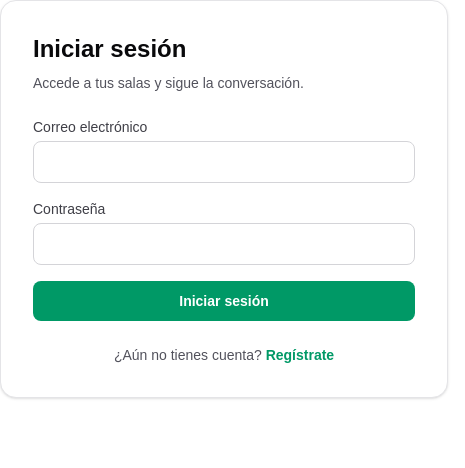
Scenario: AuthForm › modo login: muestra el error del servidor
In the field labelled "Correo electrónico": (224, 162) [33,141,415,183], type "ana@example.com"
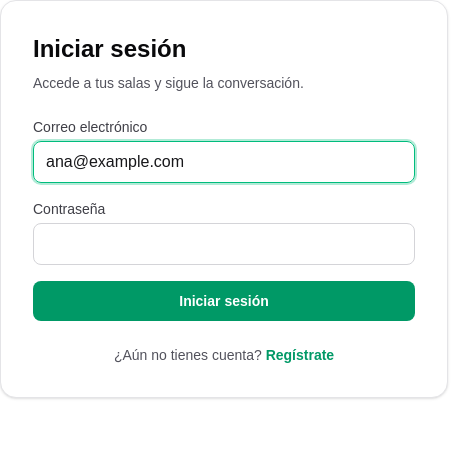
In the password field labelled "Contraseña": (224, 244) [33,223,415,265], type "mala"
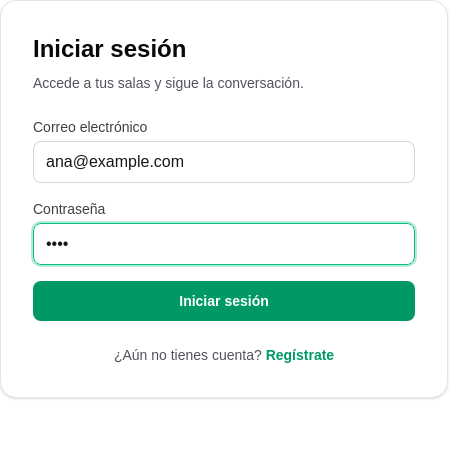
Click the button "Iniciar sesión": (224, 301) [33,281,415,321]
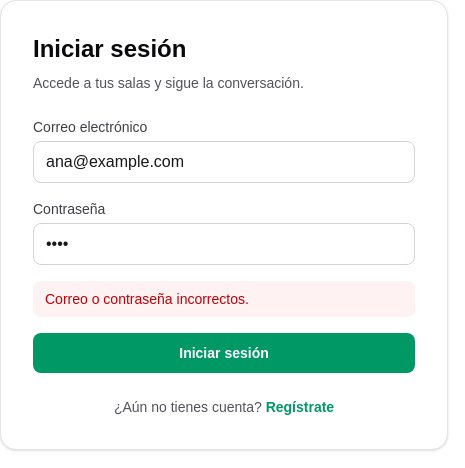
Now the message reads "Correo o contraseña incorrectos.", box [45,291,249,307]
